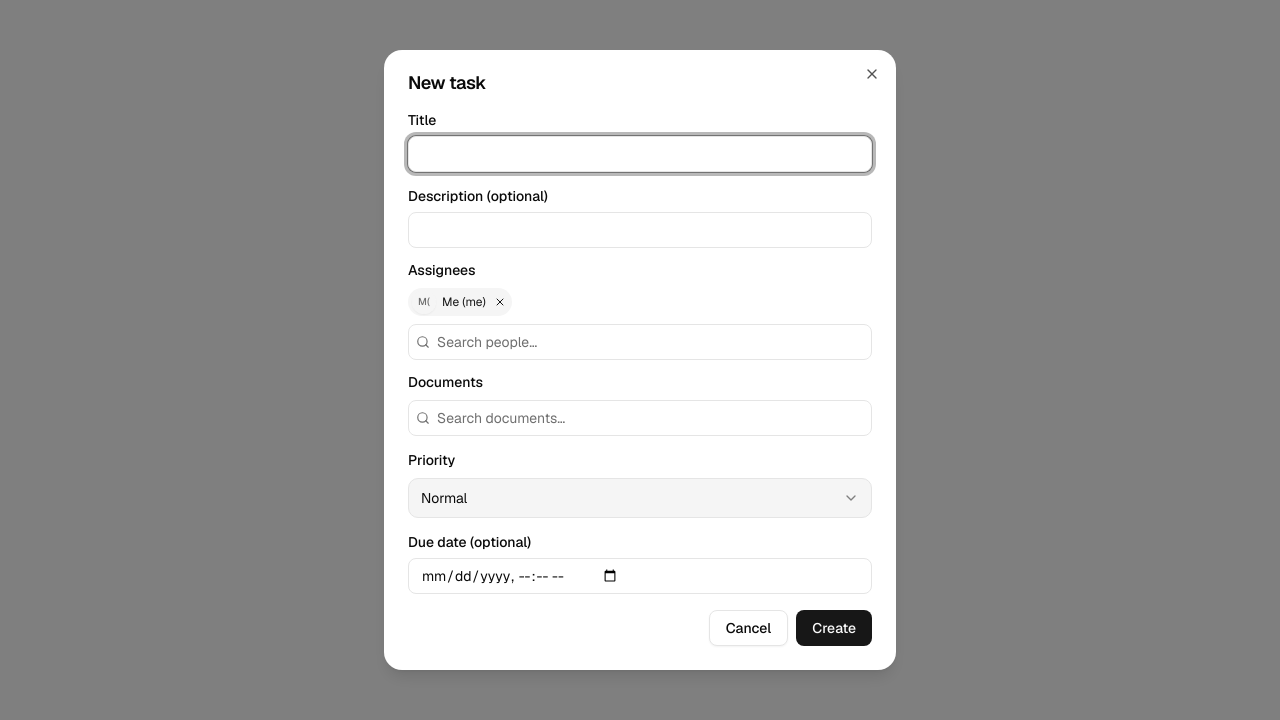
Test: TaskCreateDialog › refuses an empty title with an inline message instead of a dead button (SD-21)
Click the button with test id "task-create-submit" at coordinates (834, 628), box [796,610,872,646]
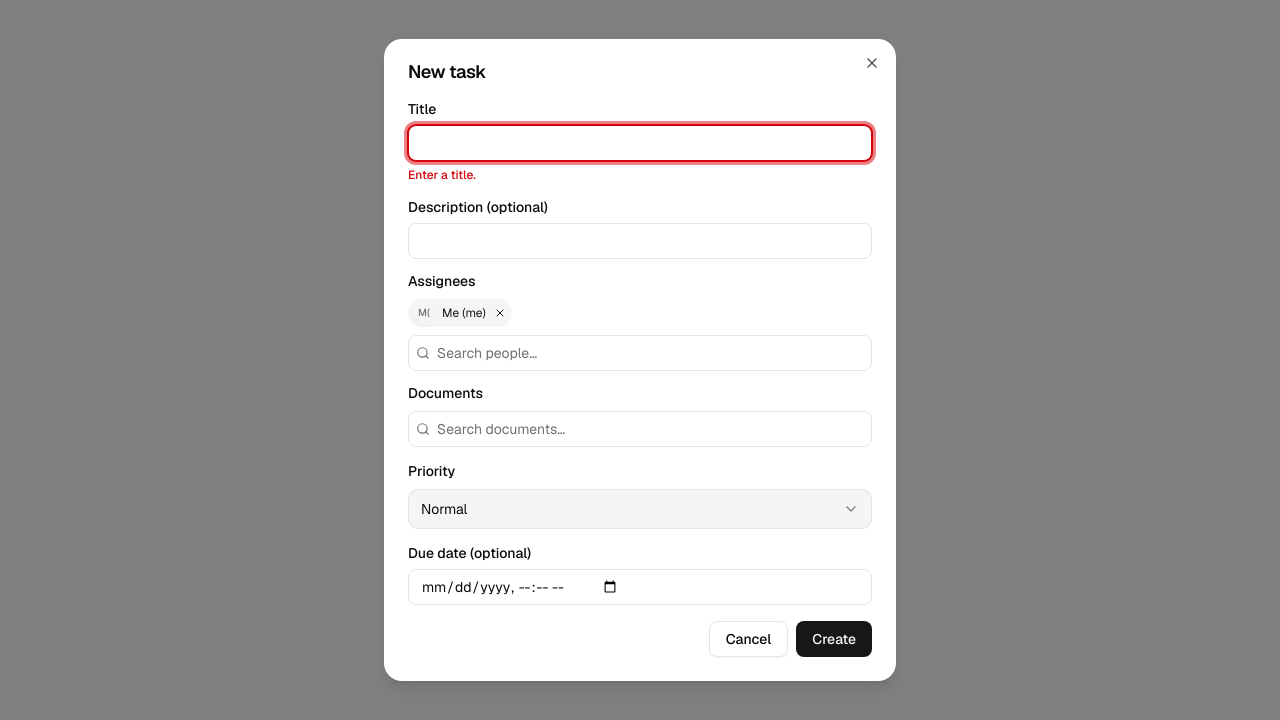
Expected: the text "Enter a title." is shown, [408,167,476,183]
